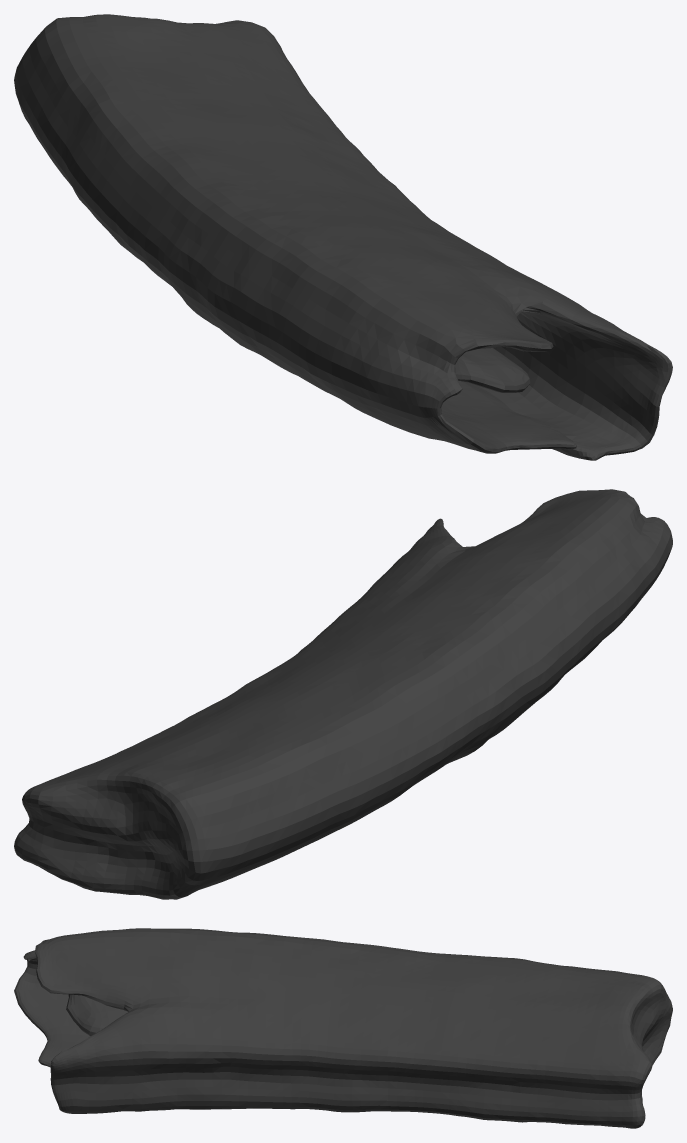
File: tooth_rabbit_210_low.glb
3 renders of one model, top to bottom at view 1: azimuth 30°, elevation 25°; view 2: azimuth 150°, elevation 25°; view 3: azimuth 270°, elevation 25°, orthographic. The views are drawn at different scales.
Visible parts, largest first — view 1: tooth_rabbit_210_low; view 2: tooth_rabbit_210_low; view 3: tooth_rabbit_210_low.
Part boxes in pixels (left/top/right/bottom): tooth_rabbit_210_low: left=14, top=14, right=672, bottom=460; tooth_rabbit_210_low: left=14, top=489, right=672, bottom=899; tooth_rabbit_210_low: left=14, top=928, right=672, bottom=1128.
Bounding box in the file's own units: 0.4965 × 0.2652 × 1.25.
1 material, 1 textured.
